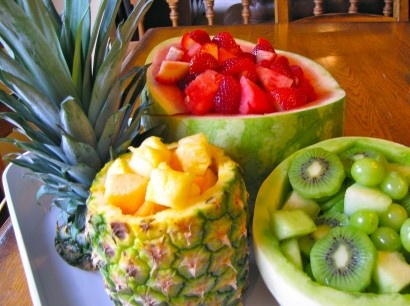background: (0, 0, 263, 146)
